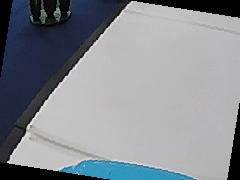corn: (27, 0, 72, 25)
